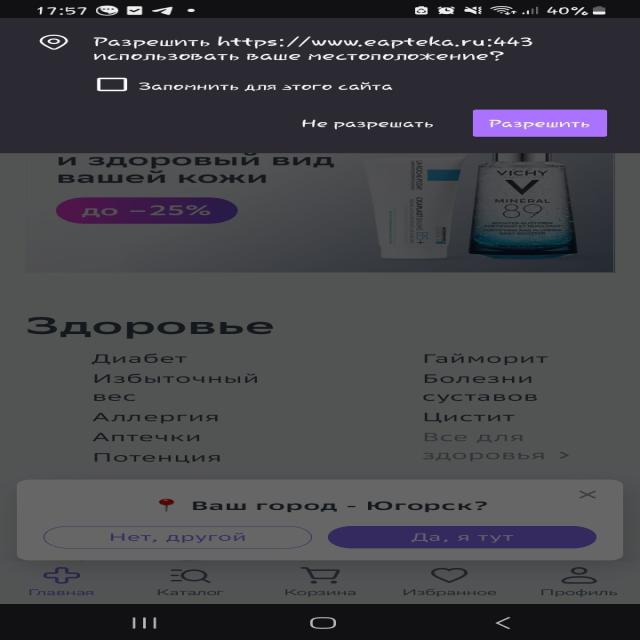button: (40, 522, 313, 552), (324, 527, 602, 550), (300, 108, 440, 139), (473, 108, 611, 139)
site: (18, 479, 622, 562)
system: (2, 18, 640, 154)
